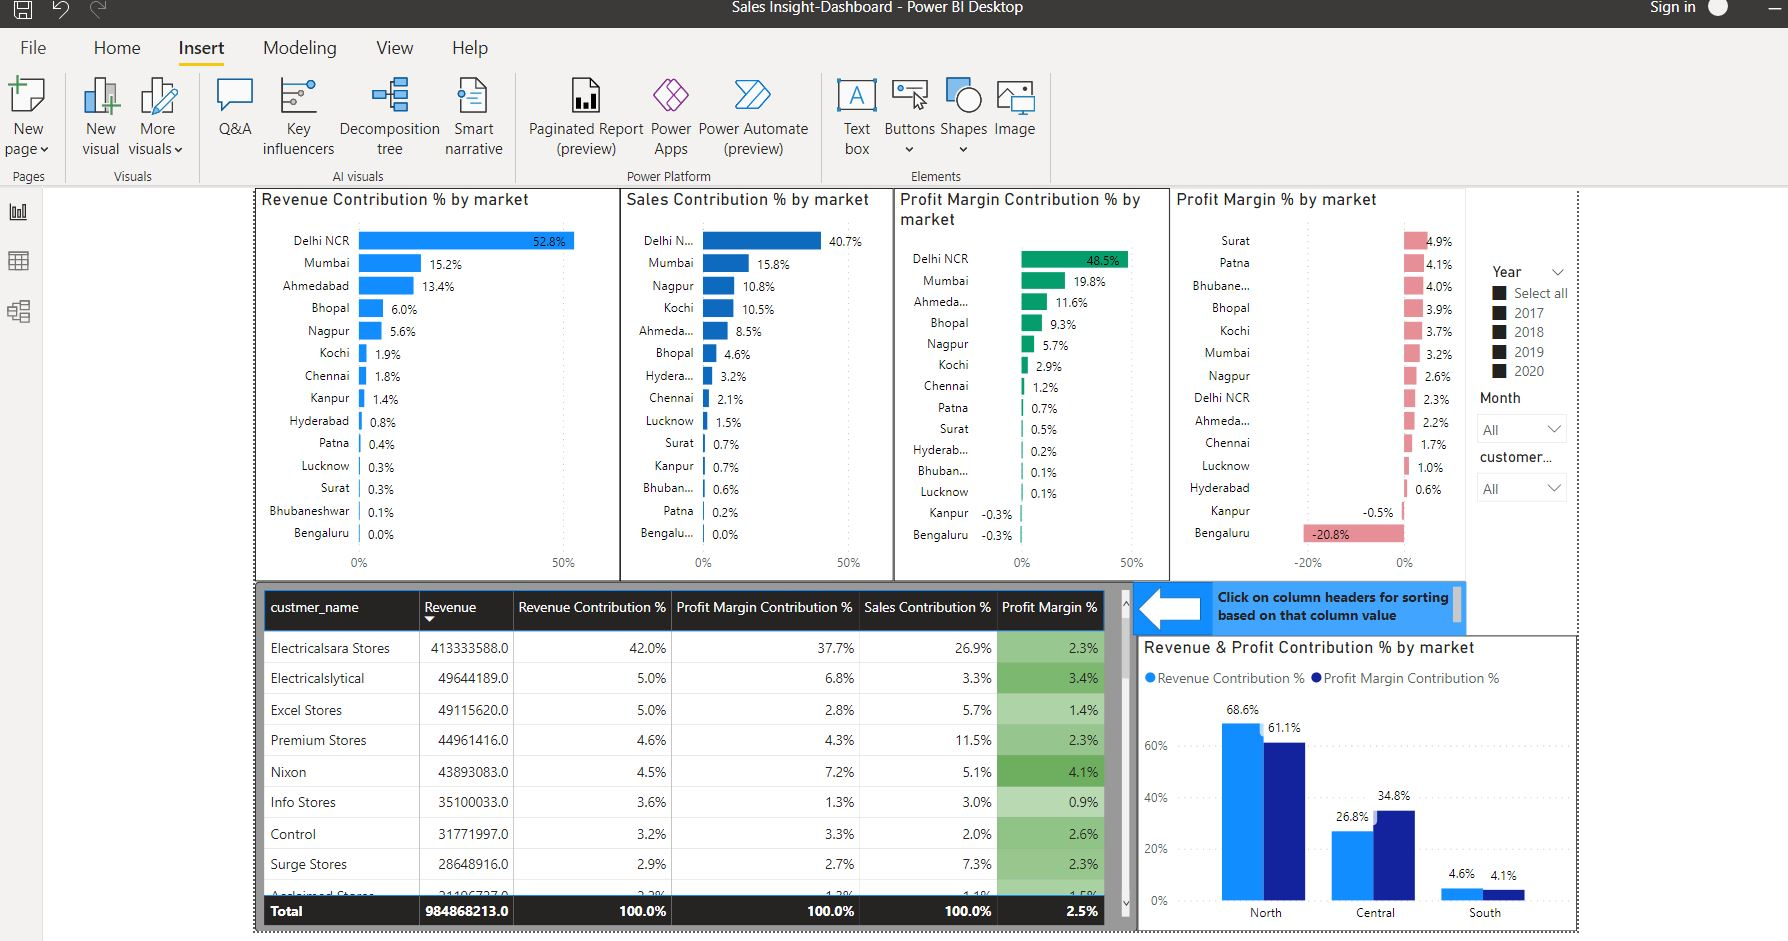

Layout of this report page (visuals, bound fields, positions):
{"tool":"powerbi","page":{"name":"Contribution %","canvas":[1280,720],"ordinal":1},"visuals":[{"type":"barChart","title":"Revenue Contribution % by market","fields":{"Category":["sales markets.markets_name"],"Y":["BasicMeasure.Revenue Contribution %"]},"box":[0,0,353.3,381.2],"z":0},{"type":"barChart","title":"Sales Contribution % by market","fields":{"Category":["sales markets.markets_name"],"Y":["BasicMeasure.Sales Contribution %"]},"box":[353.3,0,265,381.2],"z":1},{"type":"barChart","title":"Profit Margin Contribution % by market","fields":{"Category":["sales markets.markets_name"],"Y":["BasicMeasure.Profit Marging Contribution %"]},"box":[618.4,0,267.4,381.2],"z":2},{"type":"tableEx","fields":{"Values":["sales customers.custmer_name","BasicMeasure.Revenue","BasicMeasure.Revenue Contribution %","BasicMeasure.Profit Margin Contribution %","BasicMeasure.Sales Contribution %","BasicMeasure.Profit Margin %"]},"box":[0,381.2,854.3,338.8],"z":3},{"type":"barChart","title":"Profit Margin % by market","fields":{"Category":["sales markets.markets_name"],"Y":["BasicMeasure.Profit Margin %"]},"box":[885.8,0,286.8,381.2],"z":4},{"type":"slicer","fields":{"Values":["sales date.year"]},"box":[1184.7,67.8,95.6,122.2],"z":5},{"type":"slicer","fields":{"Values":["sales date.cy_date"]},"box":[1172.9,201.9,107.1,57.7],"z":6},{"type":"lineClusteredColumnComboChart","title":"Revenue  & Profit Contribution % by market","fields":{"Category":["sales markets.zone"],"Y":["BasicMeasure.Revenue Contribution %","BasicMeasure.Profit Margin Contribution %"]},"box":[854.3,433.2,425.9,286.8],"z":7},{"type":"slicer","fields":{"Values":["sales customers.customer_type"]},"box":[1172.9,271.9,107.1,60.4],"z":8},{"type":"shape","box":[849.5,381.2,323.1,52],"z":10},{"type":"textbox","box":[926.9,381.2,245.6,52],"z":11},{"type":"shape","box":[854.3,384.8,61.7,46],"z":12}]}

Visuals, with their boxes on the page's 1280x720 design canvas (x1, y1, x2, y2). These are canvas units, not pixel positions in the 1788x941 screenshot, which may show the page scaled, cropped or inside an application window:
"Revenue Contribution % by market" barChart: region(0, 0, 353, 381)
"Sales Contribution % by market" barChart: region(353, 0, 618, 381)
"Profit Margin Contribution % by market" barChart: region(618, 0, 886, 381)
tableEx - sales customers.custmer_name x BasicMeasure.Revenue: region(0, 381, 854, 720)
"Profit Margin % by market" barChart: region(886, 0, 1173, 381)
slicer - sales date.year: region(1185, 68, 1280, 190)
slicer - sales date.cy_date: region(1173, 202, 1280, 260)
"Revenue  & Profit Contribution % by market" lineClusteredColumnComboChart: region(854, 433, 1280, 720)
slicer - sales customers.customer_type: region(1173, 272, 1280, 332)
shape: region(850, 381, 1173, 433)
textbox: region(927, 381, 1172, 433)
shape: region(854, 385, 916, 431)
